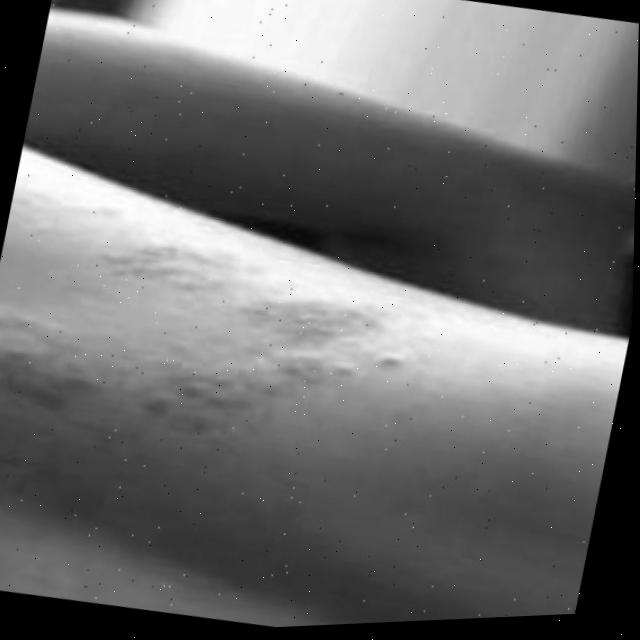Shingles: (0, 200, 427, 522)
